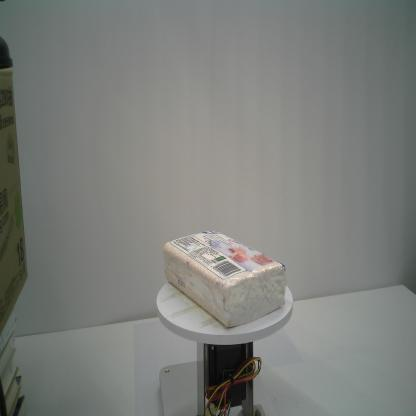Tissue: (162, 228, 286, 328)
